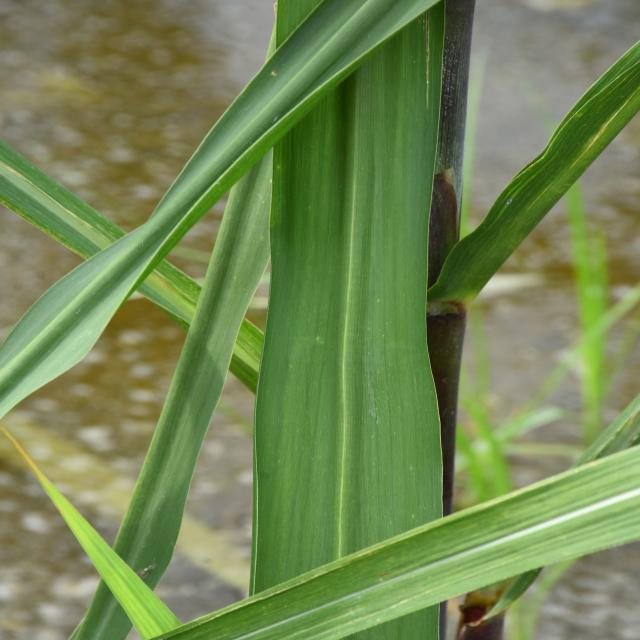Sugarcane: (256, 0, 450, 640), (128, 448, 638, 640)
